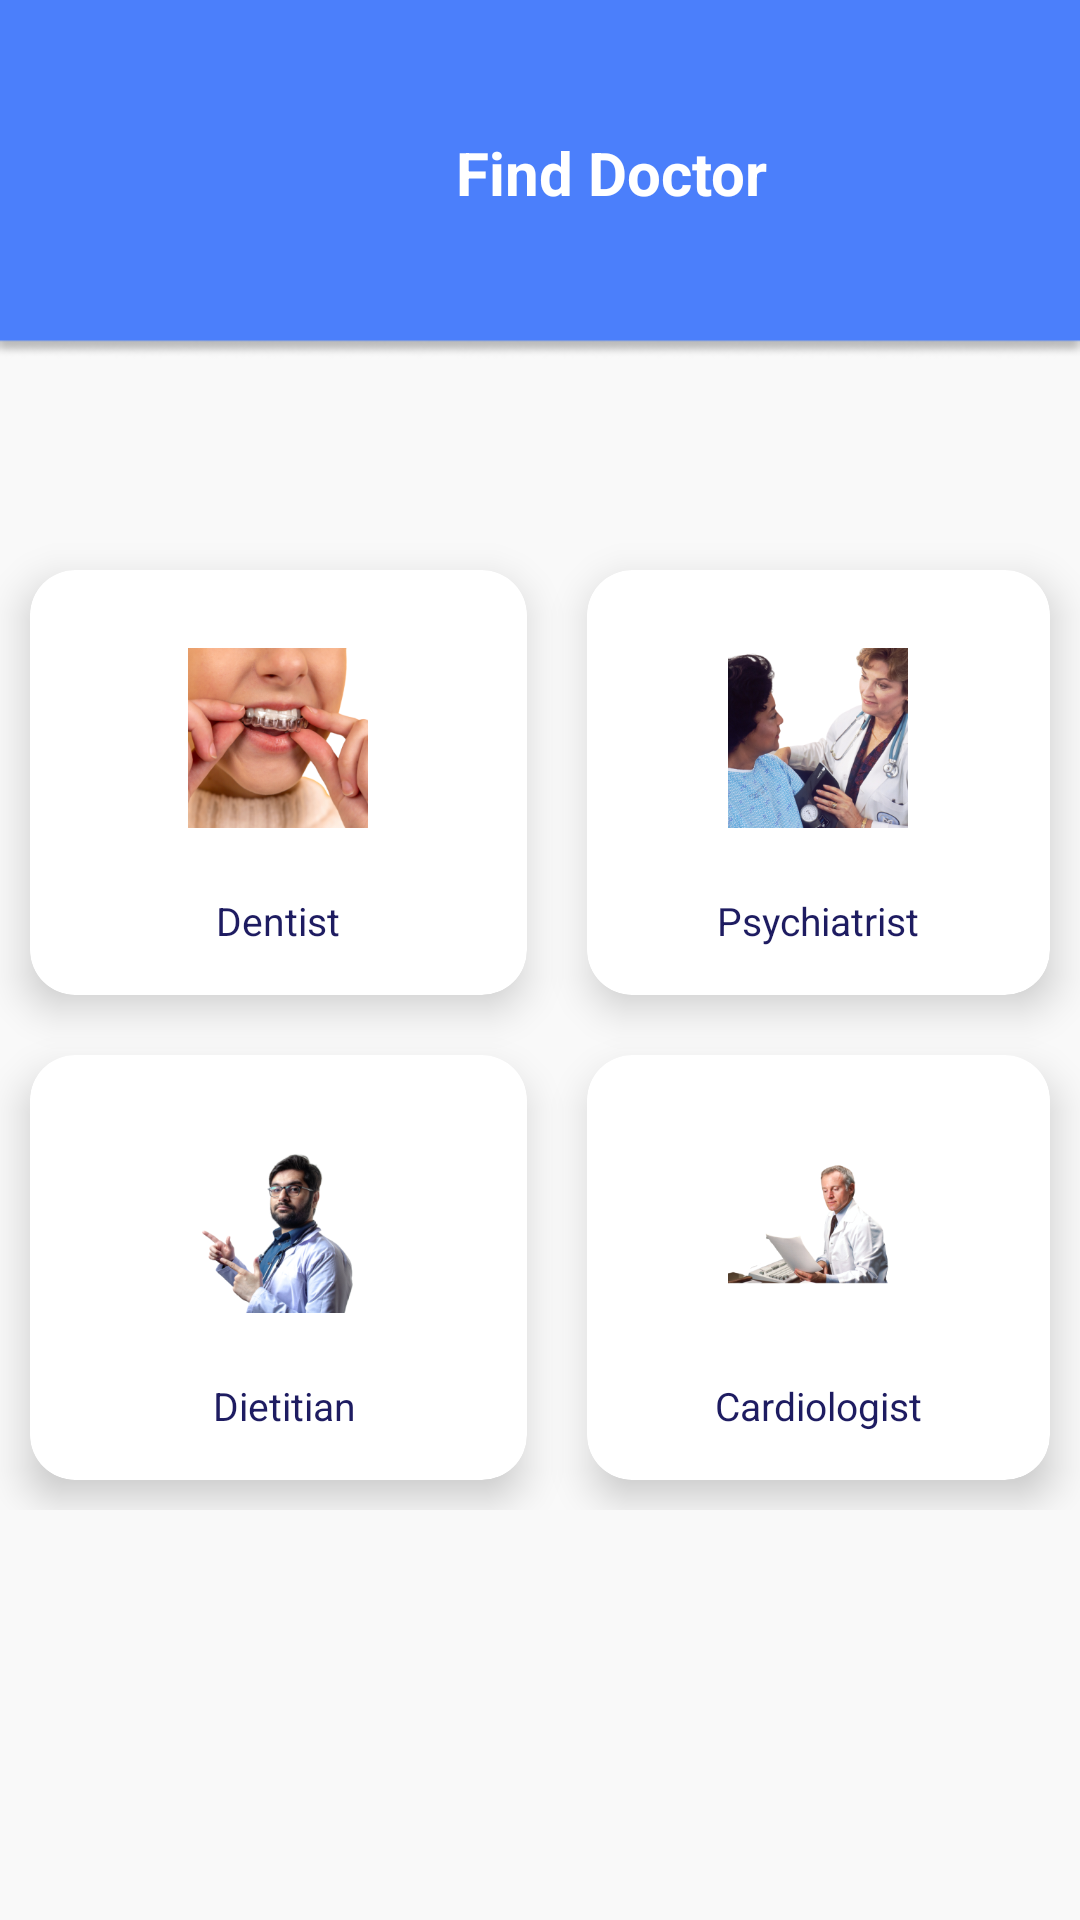

Screen size 1080px×1920px. Icon name, then its center in pixels as (x=x, y=y):
dokter: (x=818, y=738), (x=808, y=1224)
